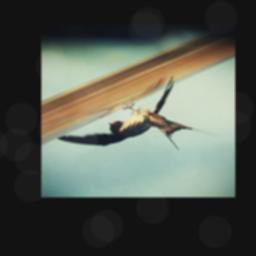Swallow: (55, 76, 218, 153)
